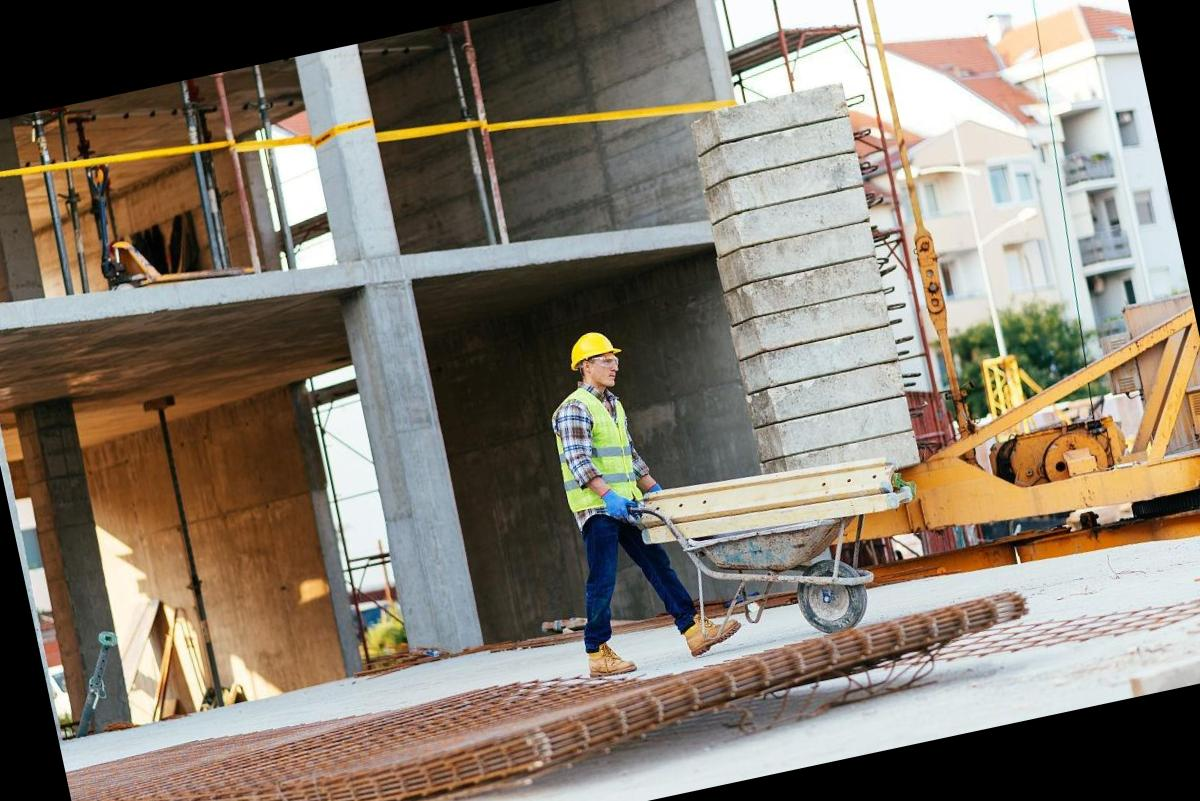Vest: (541, 376, 665, 539)
